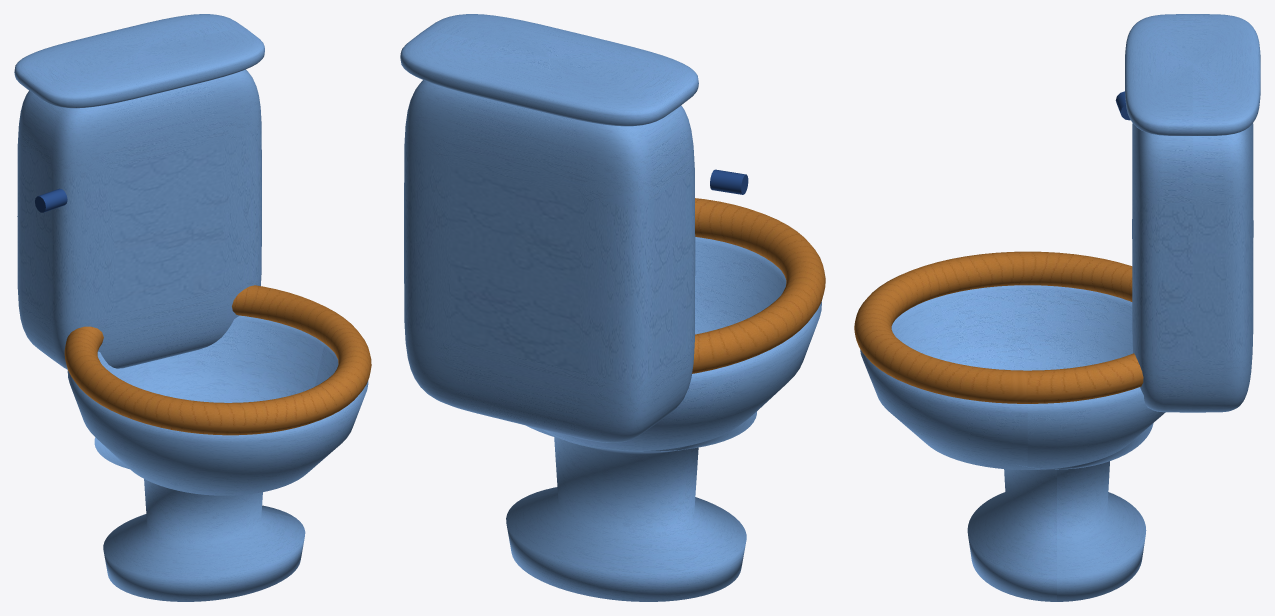
The model's file is toilet.glb.
The picture shows the model from 3 angles, left to right: view 1: azimuth 30°, elevation 25°; view 2: azimuth 150°, elevation 25°; view 3: azimuth 270°, elevation 25°; orthographic projection. The views are drawn at different scales.
Visible parts, largest first — view 1: toilet_blue porcelain, toilet_warm wood, toilet_blue iron; view 2: toilet_blue porcelain, toilet_warm wood, toilet_blue iron; view 3: toilet_blue porcelain, toilet_warm wood.
Boxes of the visible parts, x1=… form: toilet_blue porcelain: x1=14, y1=14, x2=368, y2=601; toilet_warm wood: x1=64, y1=285, x2=371, y2=435; toilet_blue iron: x1=35, y1=188, x2=67, y2=212; toilet_blue porcelain: x1=400, y1=14, x2=821, y2=601; toilet_warm wood: x1=692, y1=198, x2=825, y2=373; toilet_blue iron: x1=710, y1=169, x2=748, y2=194; toilet_blue porcelain: x1=860, y1=14, x2=1260, y2=601; toilet_warm wood: x1=854, y1=251, x2=1143, y2=403.
Bounding box in the file's own units: 0.6581 × 1.12 × 0.8375.
Materials: 3 (2 with a texture image).
